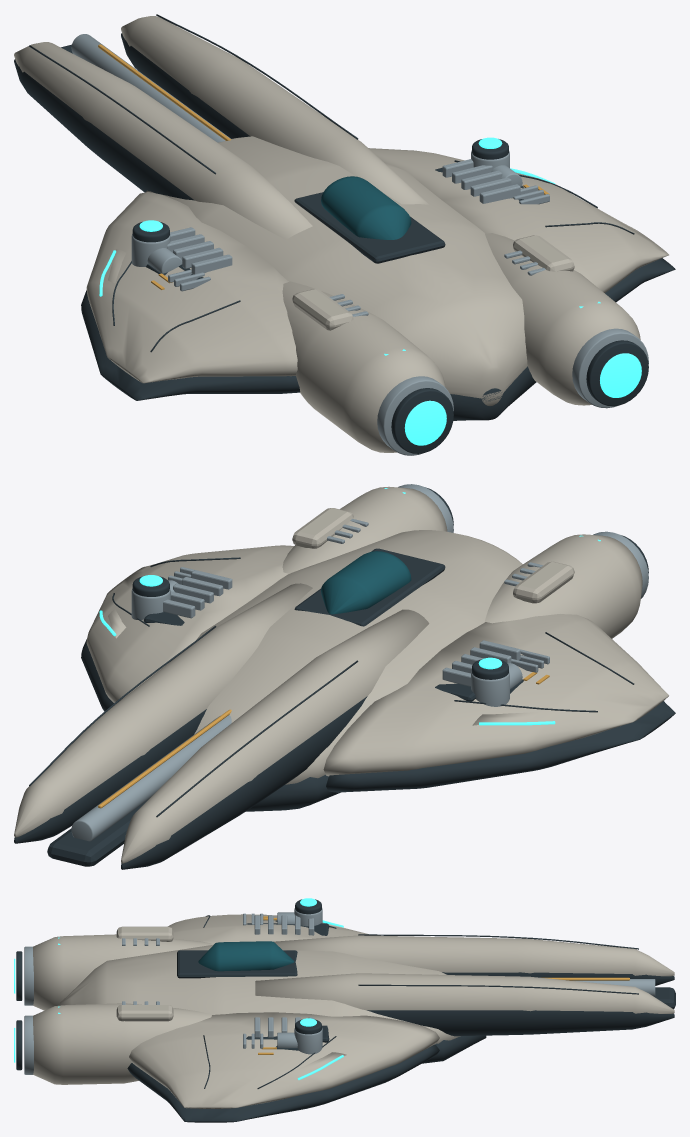
The model's file is siege-0.glb.
3 views of the same model, one above another, from view 1: azimuth 30°, elevation 25°; view 2: azimuth 150°, elevation 25°; view 3: azimuth 270°, elevation 25° (orthographic). The views are drawn at different scales.
Parts seen in each view (by area): view 1: SM_Hull, SM_Wing_Left, SM_Engine_Left, SM_Engine_Right, SM_Wing_Right, SM_Stage03, SM_Weapon_Right, SM_Stage04, SM_Stage01; view 2: SM_Hull, SM_Wing_Left, SM_Wing_Right, SM_Engine_Left, SM_Engine_Right, SM_Weapon_Right, SM_Stage03, SM_Stage04, SM_Stage02; view 3: SM_Hull, SM_Wing_Right, SM_Engine_Right, SM_Engine_Left, SM_Wing_Left, SM_Stage03, SM_Stage04, SM_Weapon_Right, SM_Stage01.
Part boxes in pixels (x1,y1,x2,y2): SM_Hull: [14, 14, 536, 420]; SM_Wing_Left: [81, 192, 300, 400]; SM_Engine_Left: [282, 281, 453, 455]; SM_Engine_Right: [485, 233, 648, 408]; SM_Wing_Right: [368, 148, 675, 302]; SM_Stage03: [168, 185, 574, 330]; SM_Weapon_Right: [61, 34, 231, 142]; SM_Stage04: [131, 137, 509, 266]; SM_Stage01: [146, 165, 523, 275]; SM_Hull: [14, 530, 524, 869]; SM_Wing_Left: [323, 614, 675, 792]; SM_Wing_Right: [81, 545, 293, 711]; SM_Engine_Left: [485, 531, 648, 638]; SM_Engine_Right: [282, 484, 453, 573]; SM_Weapon_Right: [47, 709, 231, 866]; SM_Stage03: [168, 508, 574, 672]; SM_Stage04: [131, 575, 509, 706]; SM_Stage02: [108, 609, 538, 725]; SM_Hull: [60, 915, 674, 1063]; SM_Wing_Right: [127, 1012, 439, 1122]; SM_Engine_Right: [14, 1001, 211, 1084]; SM_Engine_Left: [14, 934, 211, 1010]; SM_Wing_Left: [168, 914, 368, 944]; SM_Stage03: [116, 913, 263, 1048]; SM_Stage04: [294, 898, 322, 1054]; SM_Weapon_Right: [541, 977, 675, 1009]; SM_Stage01: [275, 912, 298, 1050].
Size of the model in its own units: 6.36 by 1.73 by 9.32.
